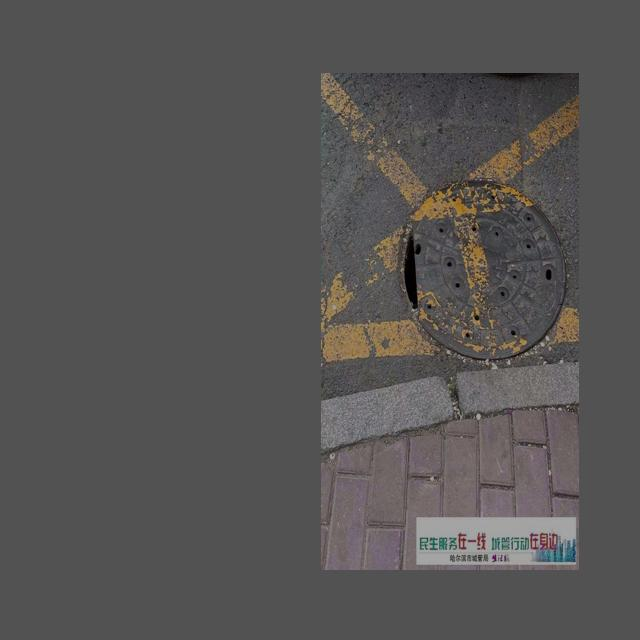broke: (378, 167, 569, 356)
